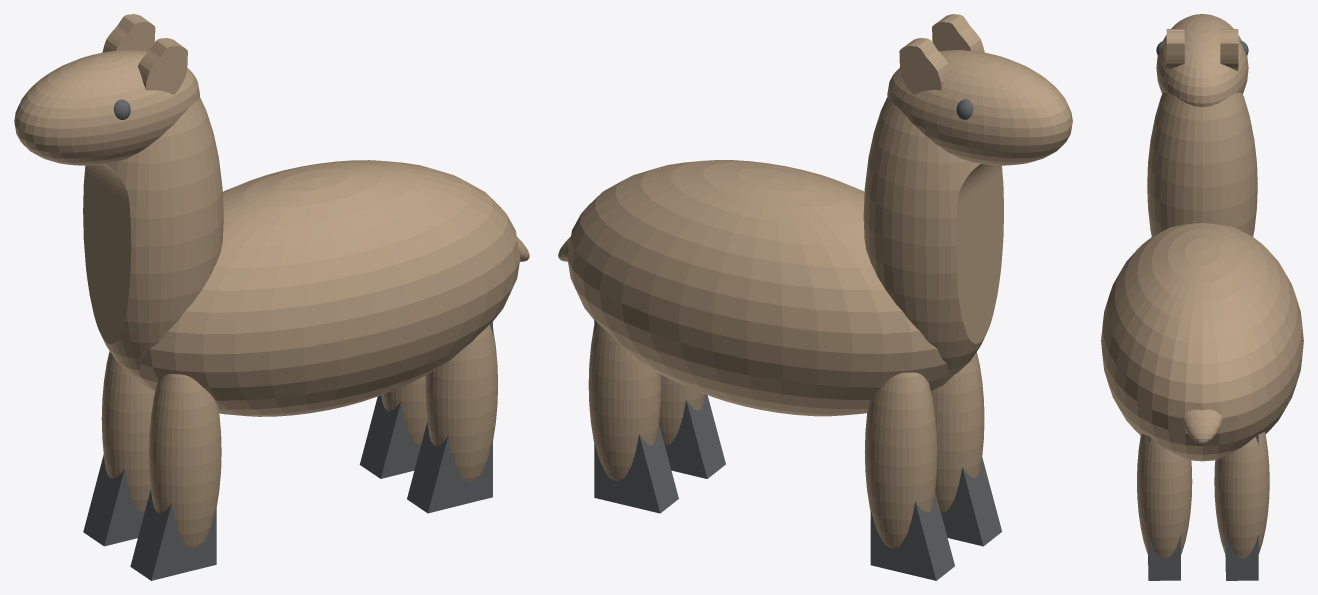
The model's file is Llama.glb.
3 views of the same model, side by side, from view 1: azimuth 30°, elevation 25°; view 2: azimuth 150°, elevation 25°; view 3: azimuth 270°, elevation 25° (orthographic). The views are drawn at different scales.
Parts seen in each view (by area): view 1: Mesh_Mesh_head_geo.001_lambert2SG.001; view 2: Mesh_Mesh_head_geo.001_lambert2SG.001; view 3: Mesh_Mesh_head_geo.001_lambert2SG.001.
Boxes of the visible parts, x1=… form: Mesh_Mesh_head_geo.001_lambert2SG.001: x1=14, y1=14, x2=529, y2=580; Mesh_Mesh_head_geo.001_lambert2SG.001: x1=558, y1=14, x2=1072, y2=580; Mesh_Mesh_head_geo.001_lambert2SG.001: x1=1101, y1=14, x2=1303, y2=580.
Size of the model in its own units: 81 by 78.86 by 34.
